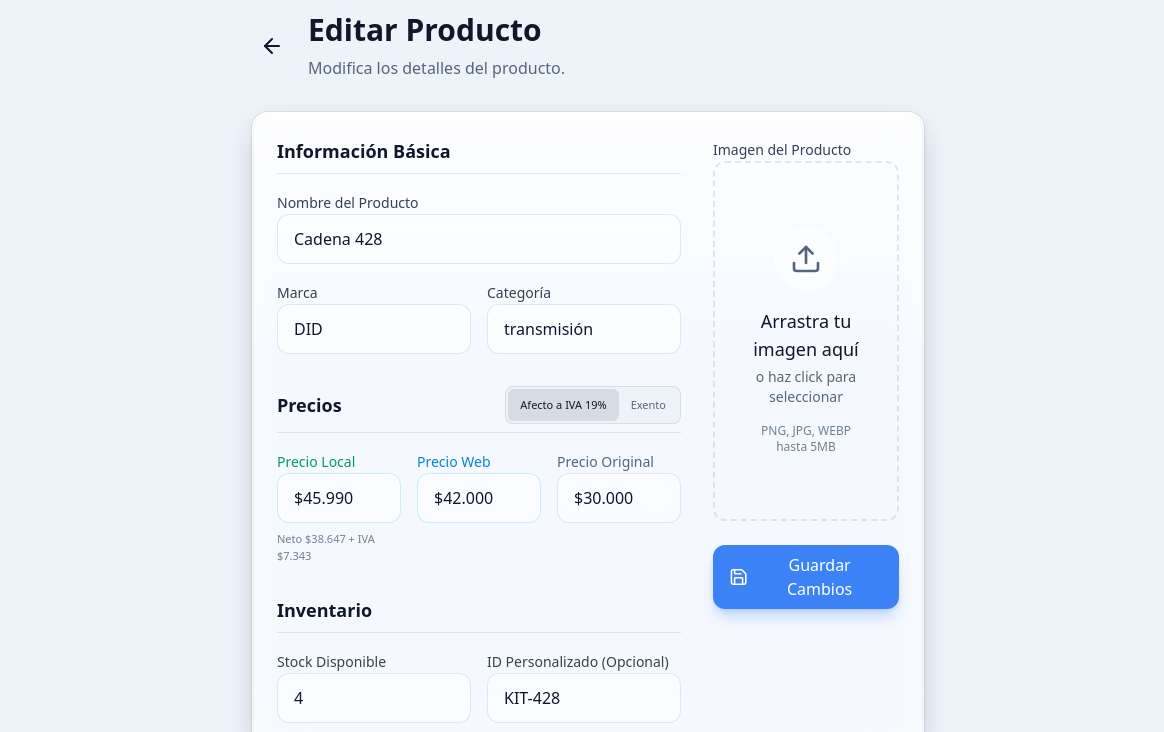
Test: Editar producto › sin cambios, Volver sale directo
Expected: the field with placeholder "Ej. iPhone 15 Pro" below "Nombre del Producto" is shown, [277, 214, 681, 264]
Click the 1st button.
click(272, 46)  # box [252, 26, 292, 66]
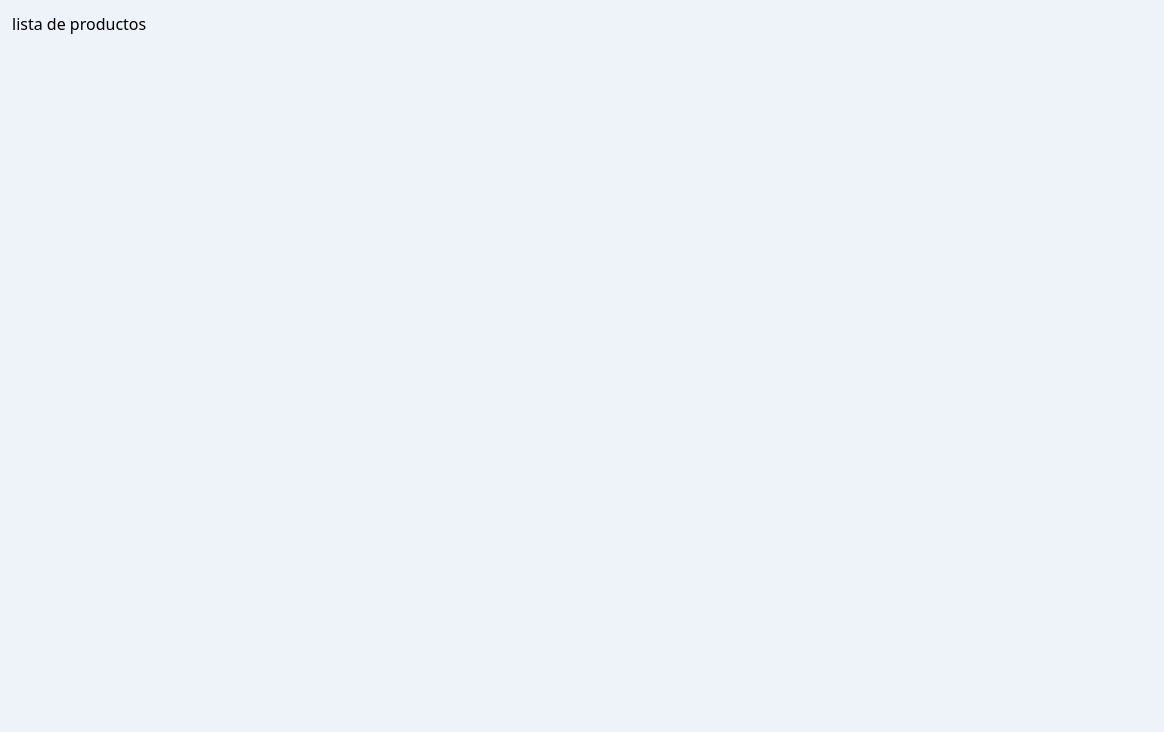
Result: the text "lista de productos" is shown at [12, 13, 146, 35]
